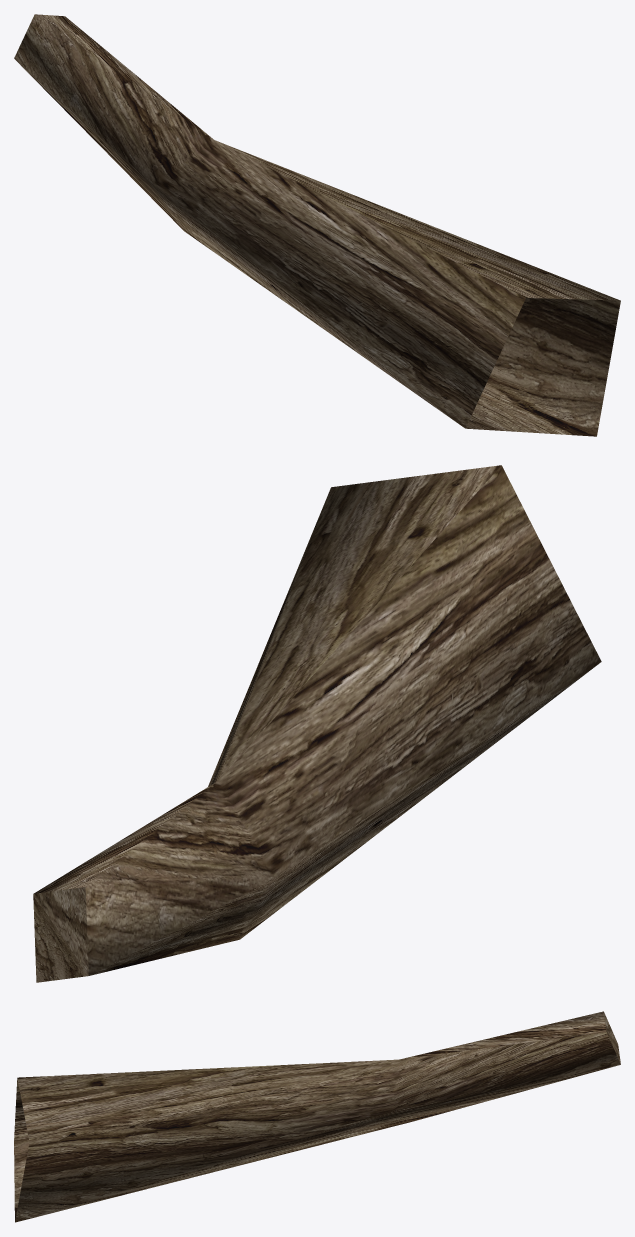
Rendered from MEP_DTree_03_p_c.fbx.
3 views of the same model, one above another, from view 1: azimuth 30°, elevation 25°; view 2: azimuth 150°, elevation 25°; view 3: azimuth 270°, elevation 25° (orthographic). The views are drawn at different scales.
Parts seen in each view (by area): view 1: MEP_DTree_03_c; view 2: MEP_DTree_03_c; view 3: MEP_DTree_03_c.
Boxes of the visible parts, bbox=[...] form: MEP_DTree_03_c: bbox=[14, 14, 620, 436]; MEP_DTree_03_c: bbox=[33, 465, 601, 982]; MEP_DTree_03_c: bbox=[14, 1011, 620, 1222].
Bounding box in the file's own units: 0.9307 × 0.7375 × 2.82.
